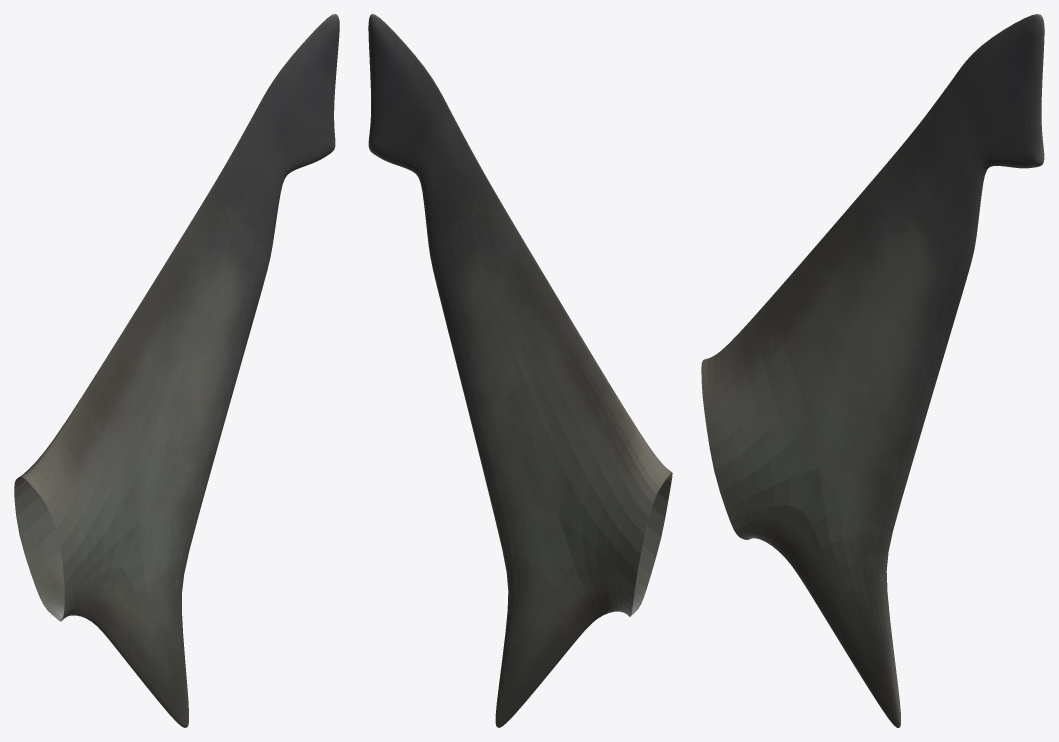
File: cola.obj
3 renders of one model, left to right at view 1: azimuth 30°, elevation 25°; view 2: azimuth 150°, elevation 25°; view 3: azimuth 330°, elevation 25°, orthographic. The views are drawn at different scales.
Visible parts, largest first — view 1: polySurface6 polySurface4 polySurface2 _Shark_v2; view 2: polySurface6 polySurface4 polySurface2 _Shark_v2; view 3: polySurface6 polySurface4 polySurface2 _Shark_v2.
Part boxes in pixels (<box>): polySurface6 polySurface4 polySurface2 _Shark_v2: <box>14,14,339,727</box>; polySurface6 polySurface4 polySurface2 _Shark_v2: <box>368,14,672,727</box>; polySurface6 polySurface4 polySurface2 _Shark_v2: <box>701,14,1044,727</box>.
Size of the model in its own units: 1.89 by 3.97 by 0.3439.
Materials: 1 (1 with a texture image).
